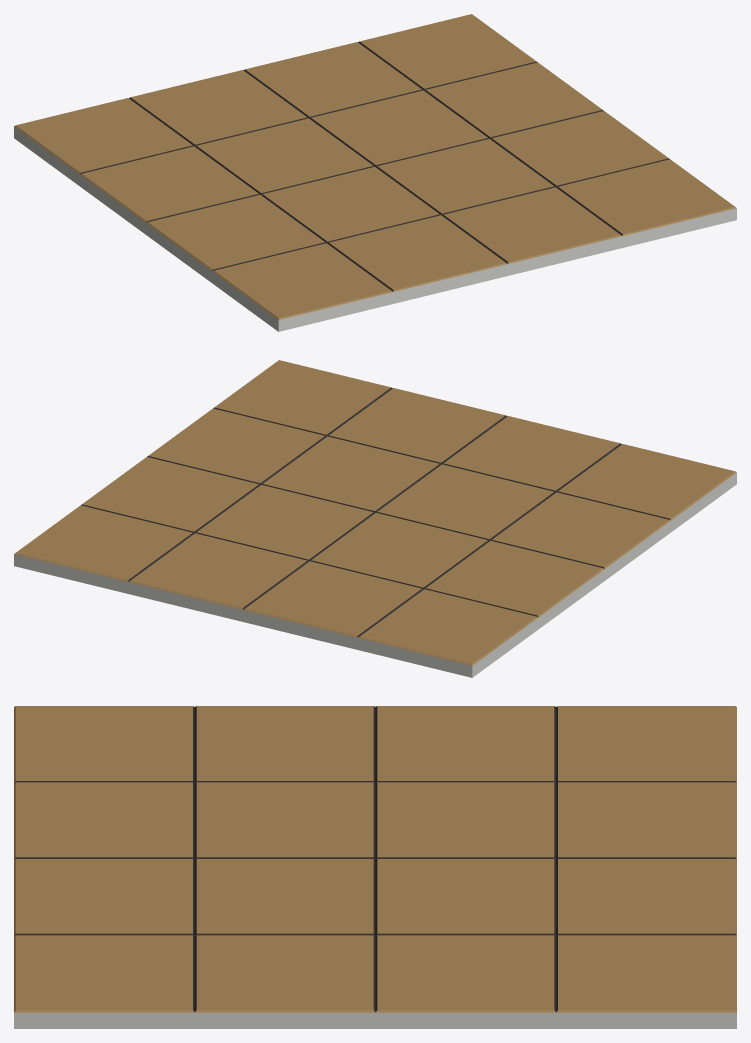
The model's file is Floor_1A.fbx.
The picture shows the model from 3 angles, top to bottom: view 1: azimuth 30°, elevation 25°; view 2: azimuth 150°, elevation 25°; view 3: azimuth 270°, elevation 25°; orthographic projection. The views are drawn at different scales.
Parts seen in each view (by area): view 1: pCube13; view 2: pCube13; view 3: pCube13.
Boxes of the visible parts, x1,y1,x2,y2 form: pCube13: (14, 14, 736, 331); pCube13: (14, 360, 736, 677); pCube13: (14, 706, 736, 1028).
Bounding box in the file's own units: 4 × 0.11 × 4.
Materials: 1 (1 with a texture image).
